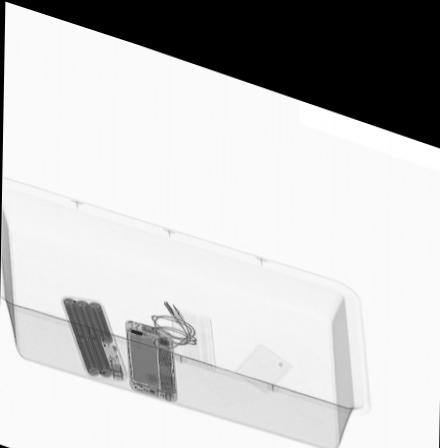Powerbank: (54, 289, 130, 371)
